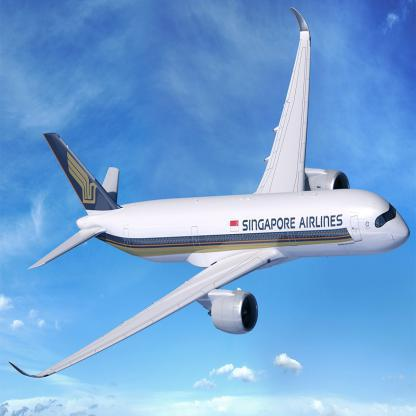CIV_Plane: (29, 3, 411, 375)
